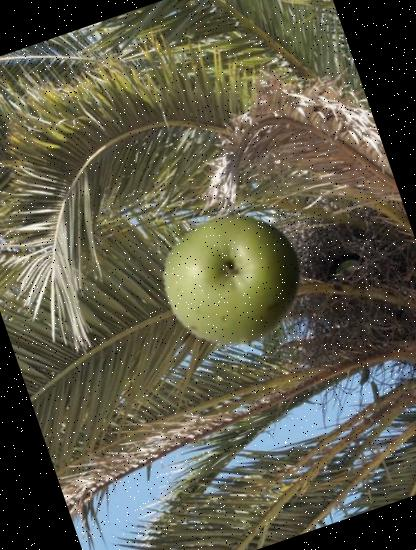Apple: (146, 191, 324, 370)
